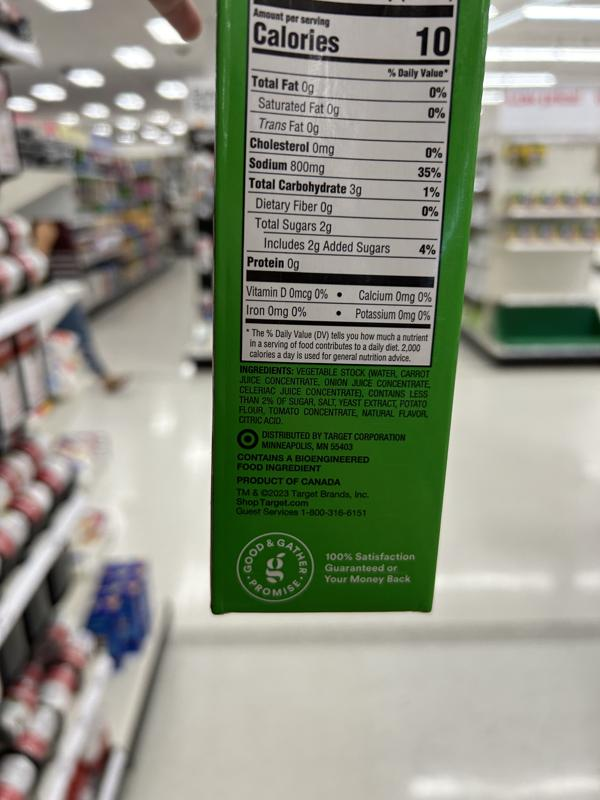ingredients: (237, 364, 430, 426)
